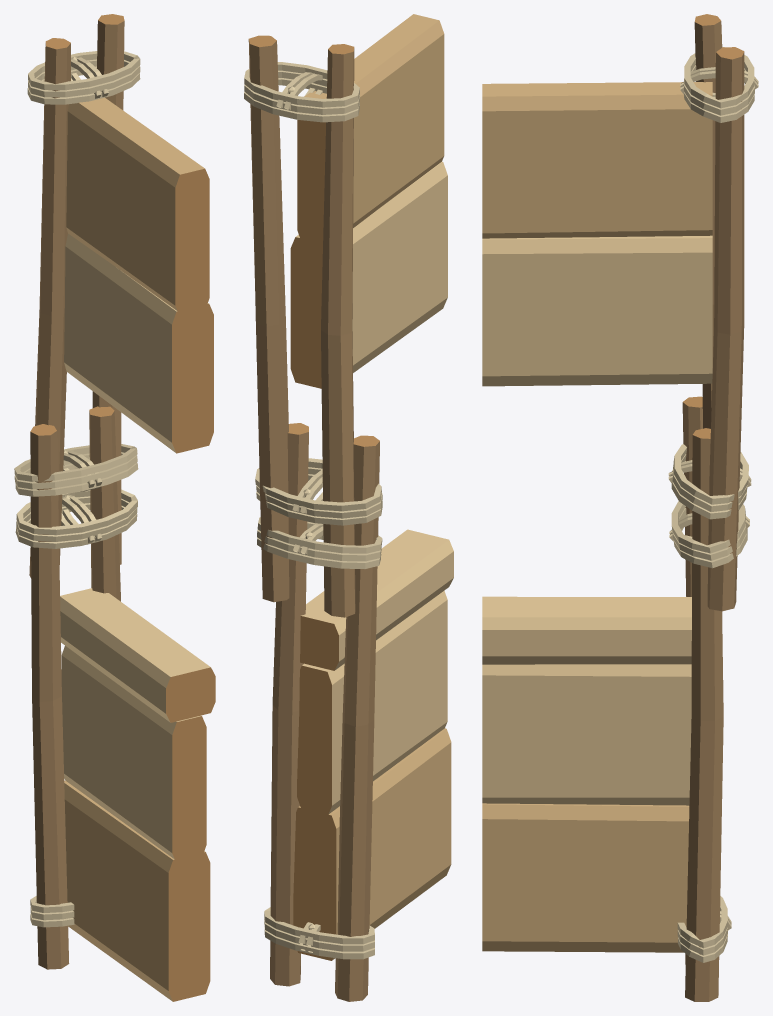
File: architecture.window.wood.fbx
The picture shows the model from 3 angles, left to right: view 1: azimuth 30°, elevation 25°; view 2: azimuth 150°, elevation 25°; view 3: azimuth 270°, elevation 25°; orthographic projection. The views are drawn at different scales.
Visible parts, largest first — view 1: WIN_slab_top, WIN_slab_bottom, WIN_stick_lo_b, WIN_sill, WIN_stick_hi_b, WIN_bind_1, WIN_stick_lo_f, WIN_bind_3, WIN_bind_2, WIN_stick_hi_f, WIN_bind_0; view 2: WIN_slab_top, WIN_slab_bottom, WIN_stick_hi_b, WIN_stick_hi_f, WIN_stick_lo_b, WIN_stick_lo_f, WIN_sill, WIN_bind_3, WIN_bind_2, WIN_bind_1, WIN_bind_0; view 3: WIN_slab_top, WIN_slab_bottom, WIN_stick_hi_f, WIN_stick_lo_f, WIN_sill, WIN_bind_3, WIN_stick_hi_b, WIN_bind_2, WIN_bind_1, WIN_bind_0, WIN_stick_lo_b.
Part boxes in pixels (x1,y1,x2,y2): WIN_slab_top: (64, 97, 213, 453); WIN_slab_bottom: (61, 645, 210, 1001); WIN_stick_lo_b: (30, 424, 69, 969); WIN_sill: (60, 588, 215, 722); WIN_stick_hi_b: (29, 38, 70, 578); WIN_bind_1: (15, 489, 137, 548); WIN_stick_lo_f: (89, 406, 120, 601); WIN_bind_3: (27, 51, 140, 104); WIN_bind_2: (14, 444, 138, 496); WIN_stick_hi_f: (92, 14, 124, 564); WIN_bind_0: (30, 896, 74, 927); WIN_slab_top: (290, 14, 447, 388); WIN_slab_bottom: (293, 590, 451, 960); WIN_stick_hi_b: (321, 44, 355, 617); WIN_stick_hi_f: (248, 35, 289, 602); WIN_stick_lo_b: (335, 435, 379, 1001); WIN_stick_lo_f: (270, 423, 308, 986); WIN_sill: (300, 529, 453, 670); WIN_bind_3: (244, 62, 359, 122); WIN_bind_2: (255, 458, 382, 525); WIN_bind_1: (257, 517, 382, 568); WIN_bind_0: (264, 907, 374, 959); WIN_slab_top: (482, 82, 712, 386); WIN_slab_bottom: (482, 664, 691, 952); WIN_stick_hi_f: (707, 47, 744, 611); WIN_stick_lo_f: (685, 428, 723, 1001); WIN_sill: (482, 596, 691, 664); WIN_bind_3: (680, 47, 758, 122); WIN_stick_hi_b: (694, 14, 722, 428); WIN_bind_2: (668, 444, 751, 519); WIN_bind_1: (669, 501, 749, 568); WIN_bind_0: (677, 896, 731, 962); WIN_stick_lo_b: (682, 396, 702, 964).
Bounding box in the file's own units: 0.3294 × 2.3 × 0.6072.
